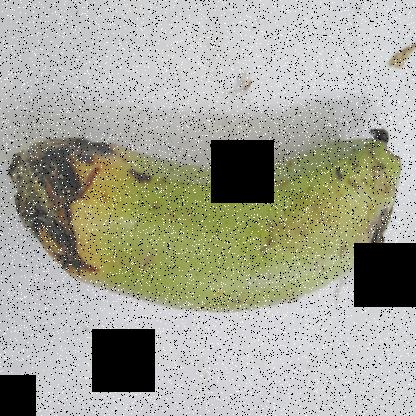rotten: (3, 111, 126, 301)
unripe: (102, 103, 408, 355)
